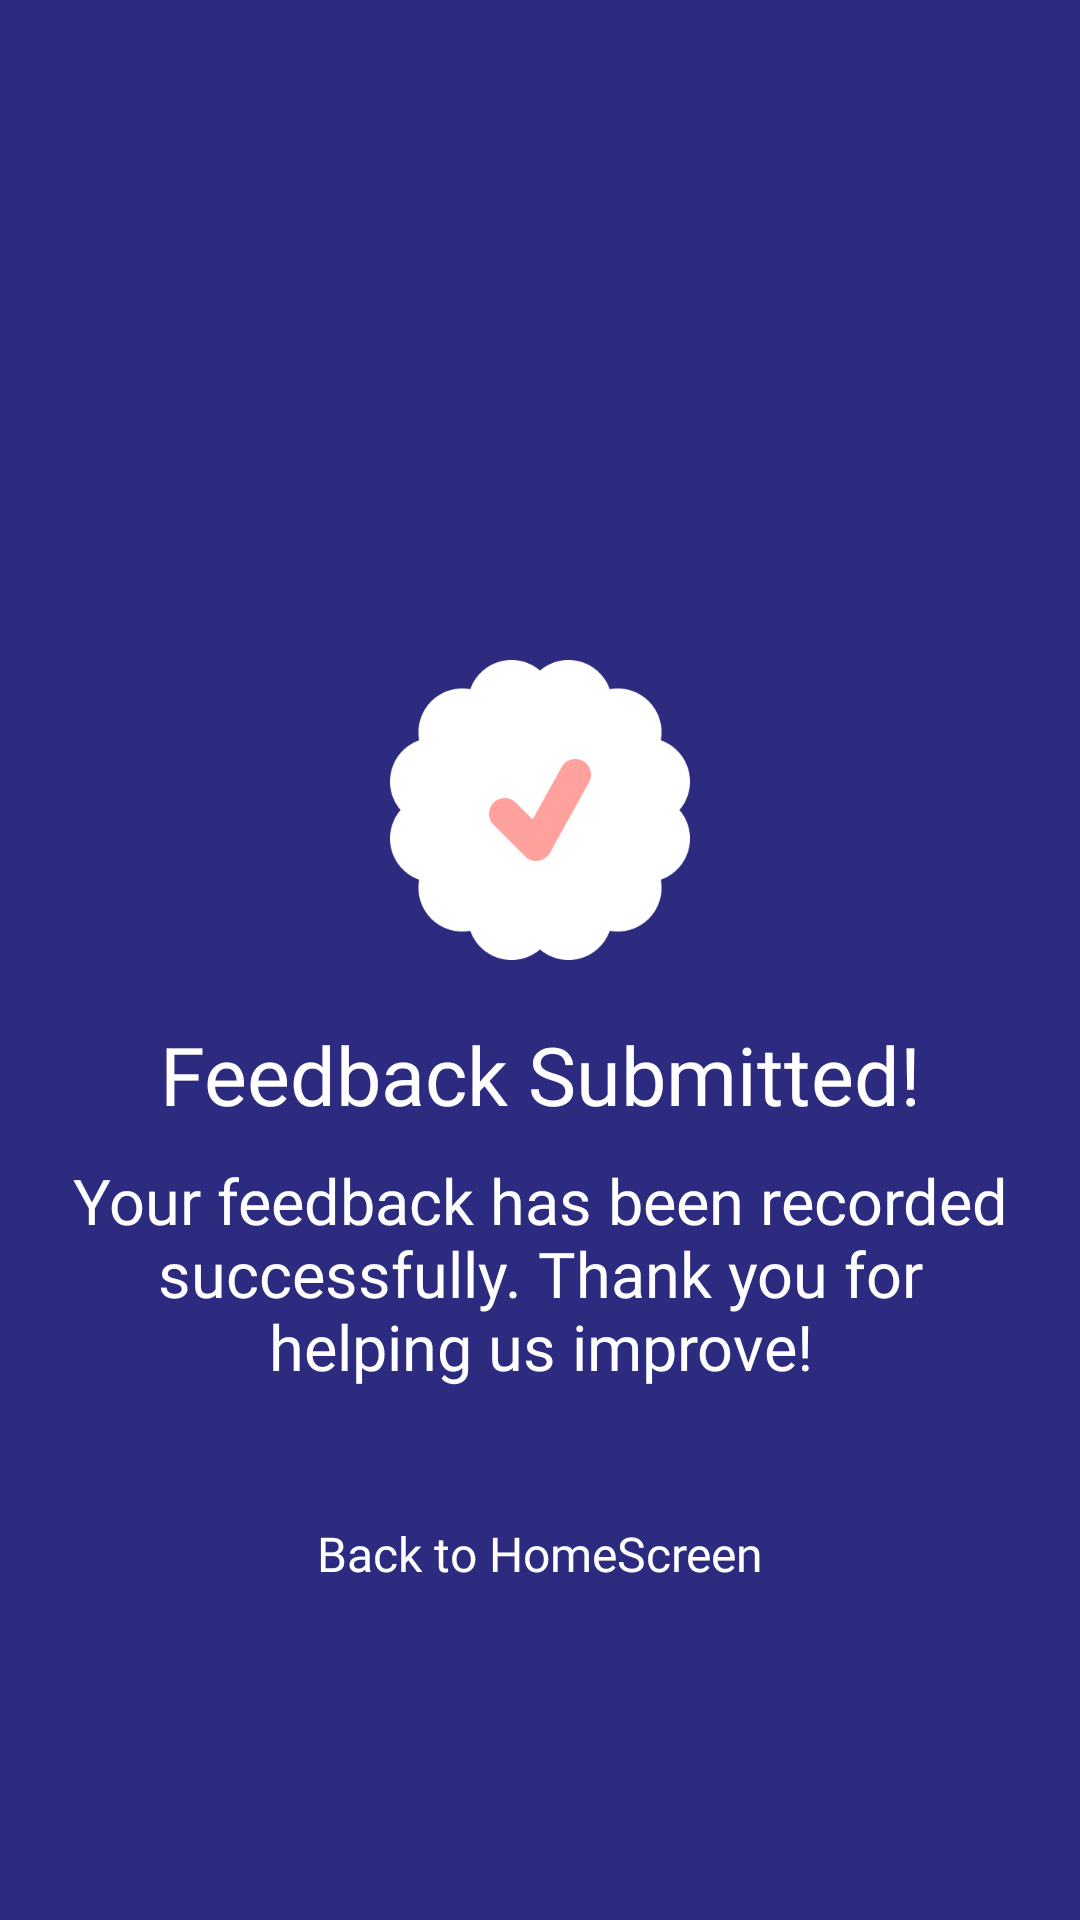

Icon click points for this 1080 × 1920 phone screenshot, format (x,y):
success mark: (540,810)
